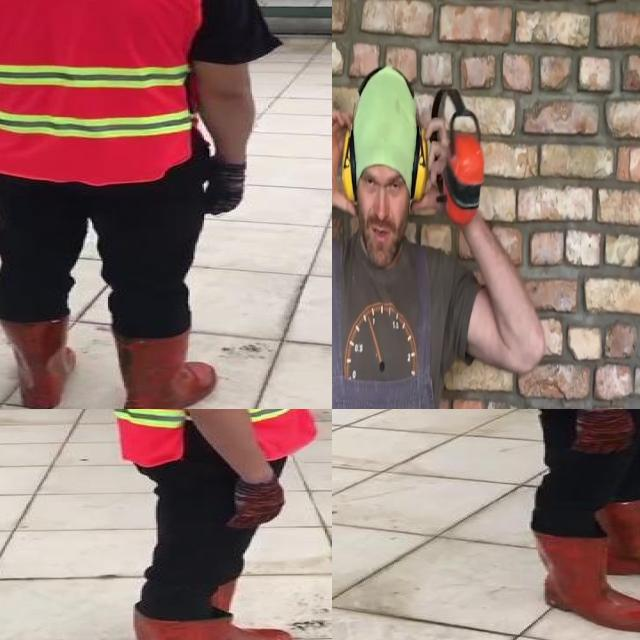Ear-protection: (338, 65, 433, 257)
No_Glasses: (358, 154, 404, 204)
boots: (533, 529, 640, 634), (109, 328, 218, 409), (0, 318, 77, 409), (131, 606, 296, 640), (216, 580, 296, 640), (587, 497, 640, 584)
hand_glove: (225, 479, 286, 527), (568, 409, 630, 453), (208, 159, 248, 219)
head_helmet: (0, 0, 281, 409)
person: (88, 409, 332, 640), (458, 409, 640, 640)
vest: (0, 0, 205, 182), (111, 409, 314, 467)
